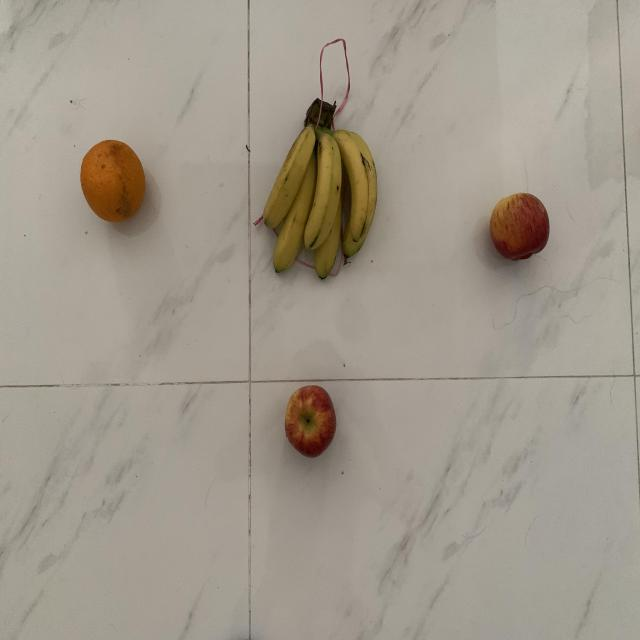Apple: (487, 191, 553, 264), (282, 383, 340, 458)
Banana: (261, 99, 379, 285)
Orange: (76, 136, 151, 224)
